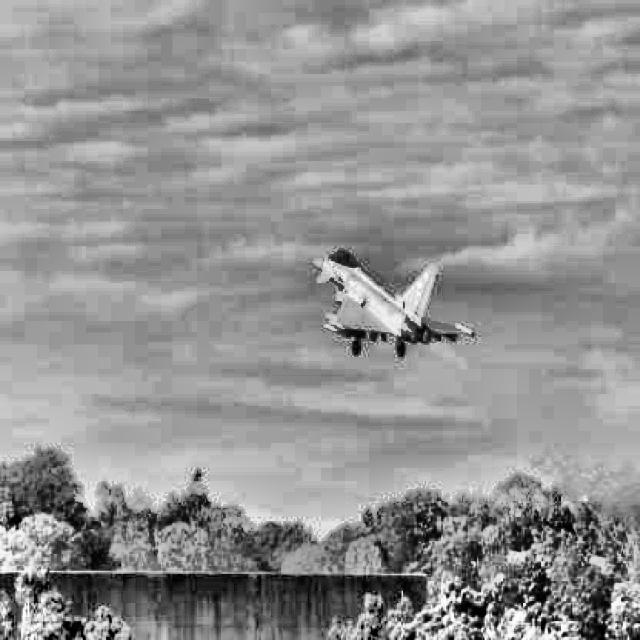EF2000: (312, 250, 474, 358)
